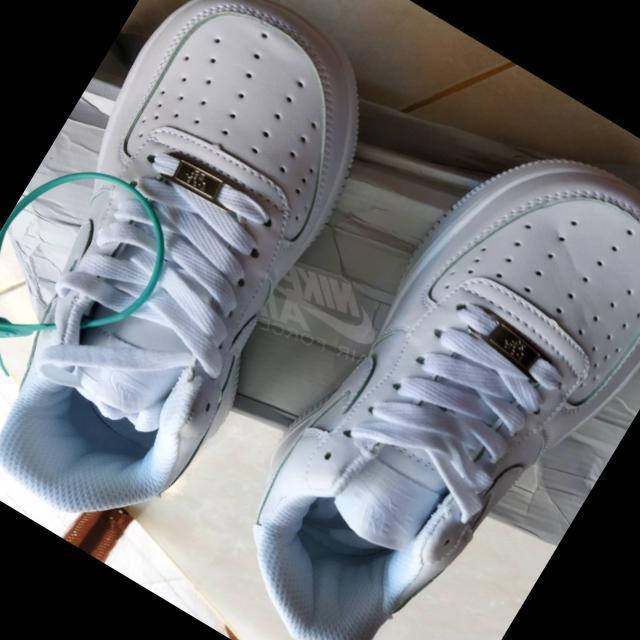nike fake air force: (183, 89, 640, 640), (0, 0, 423, 558)
